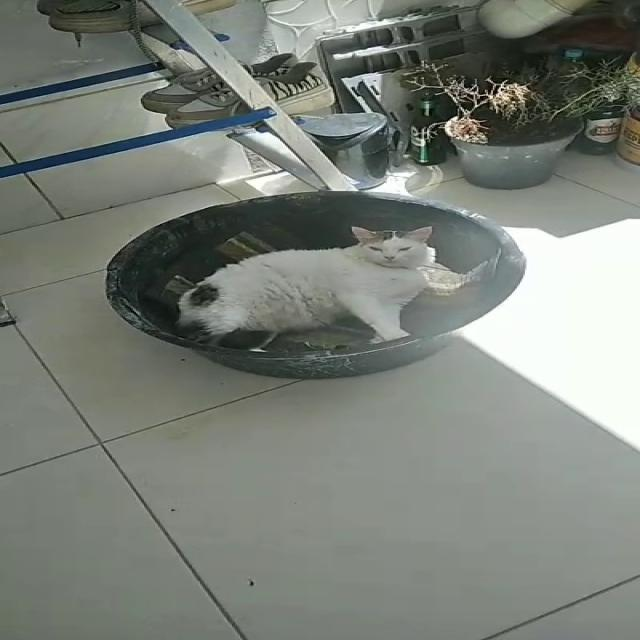Simba: (156, 221, 502, 343)
